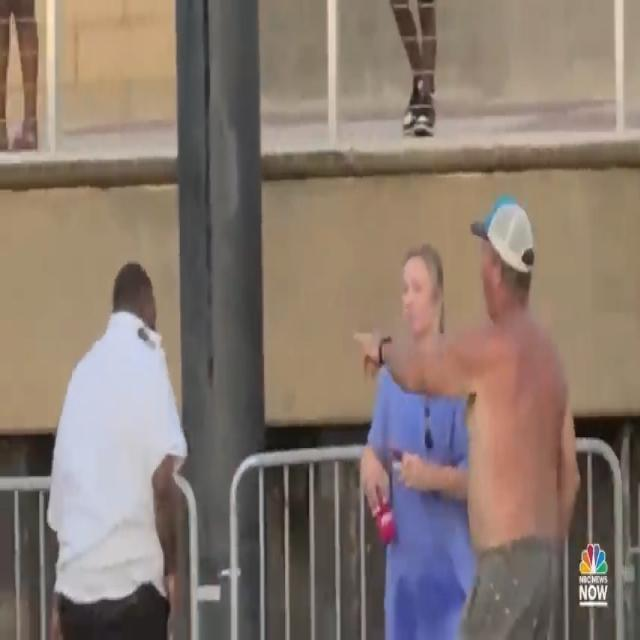non-fight: (340, 188, 580, 640), (27, 241, 187, 640)
